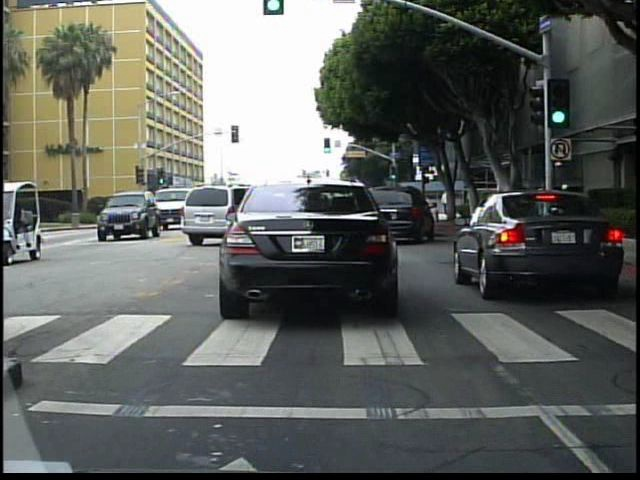person: (542, 175, 562, 232), (438, 186, 452, 218)
